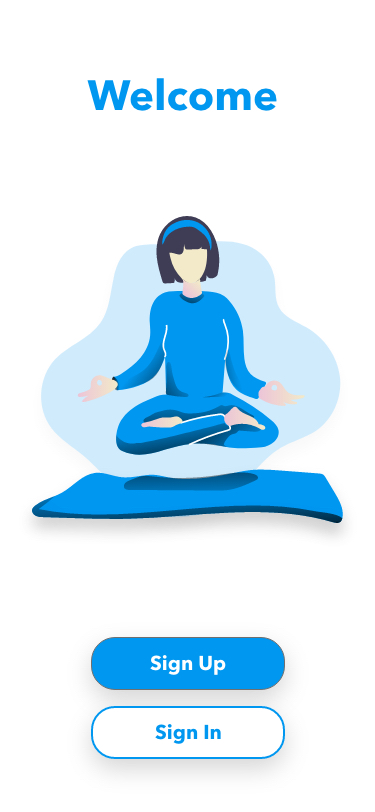Image: (32, 216, 344, 524)
Text: (88, 78, 278, 112)
TextButton: (91, 706, 286, 760), (91, 637, 286, 690)
